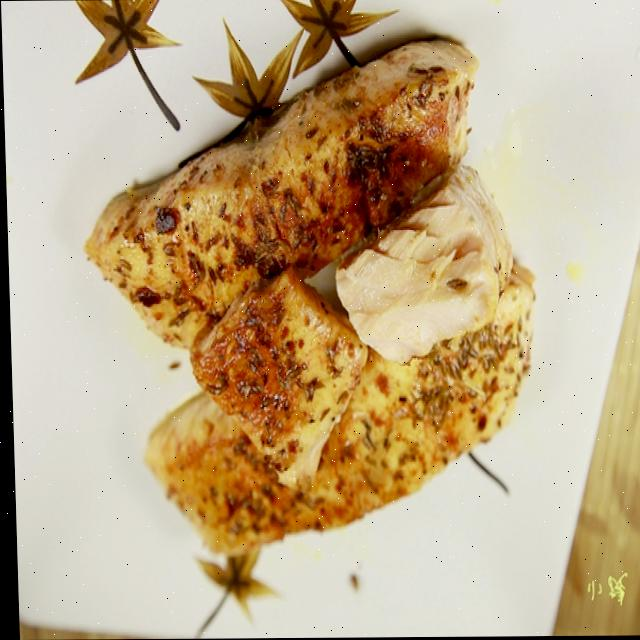熟制海鲜: (54, 32, 559, 587)
